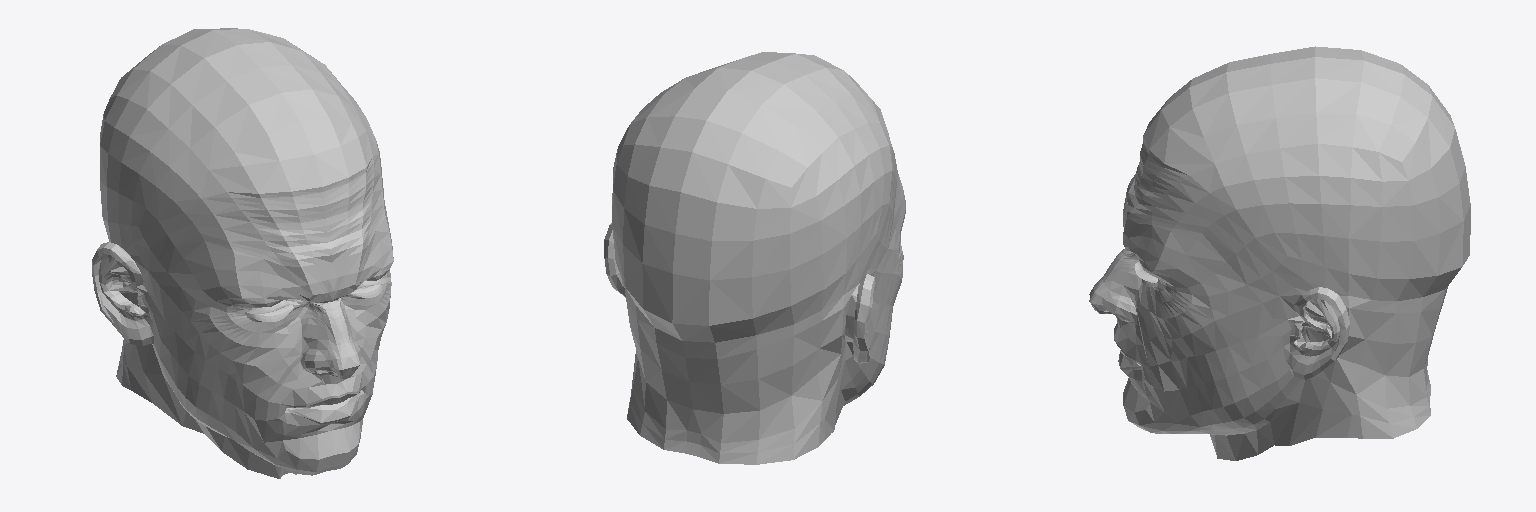
The model's file is 05neg.obj.
3 renders of one model, left to right at view 1: azimuth 30°, elevation 25°; view 2: azimuth 150°, elevation 25°; view 3: azimuth 270°, elevation 25°, orthographic.
Parts seen in each view (by area): view 1: head; view 2: head; view 3: head.
Part boxes in pixels (x1,y1,x2,y2): head: (92,28,393,478); head: (604,52,905,464); head: (1089,46,1470,460).
Size of the model in its own units: 0.0743 by 0.1058 by 0.092.